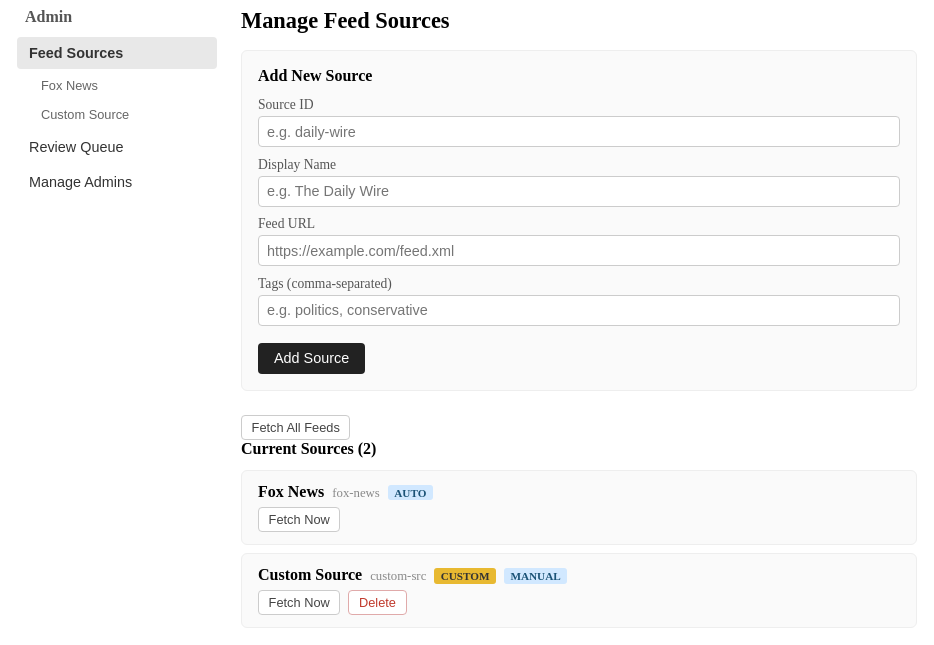
AdminPanel › navigates to admin management view
Check: the button "Feed Sources" is shown, box [17,37,217,69]
What coordinates should you click on to do the following:
click the button "Manage Admins"
I would click on:
 (117, 182)
Its box is [17,166,217,198].
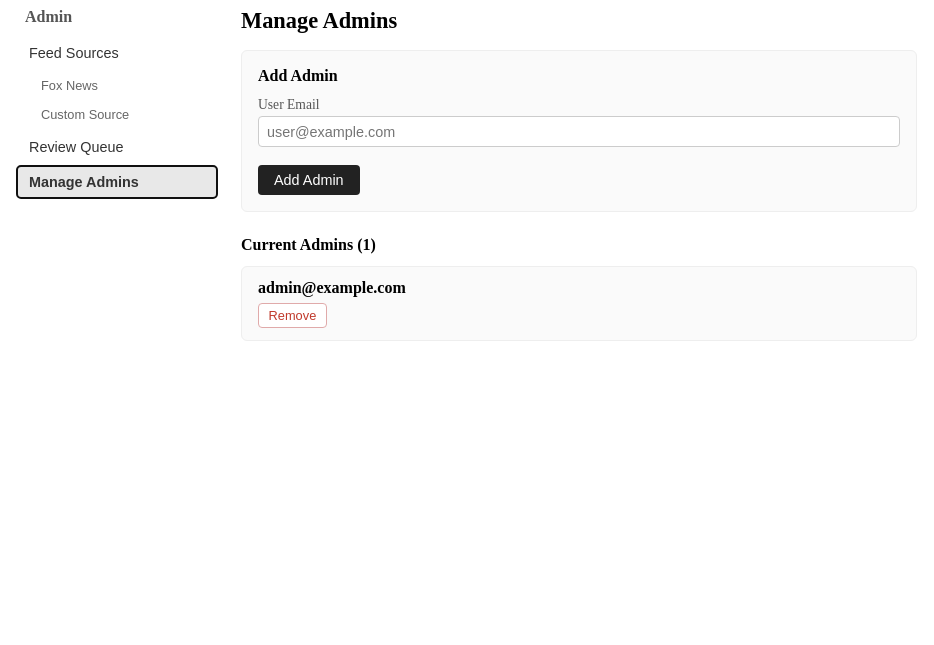
Check: the text "admin@example.com" is shown, box [258,279,406,297]
Check: the heading "Current Admins (1)" is shown, box [241,236,376,253]
